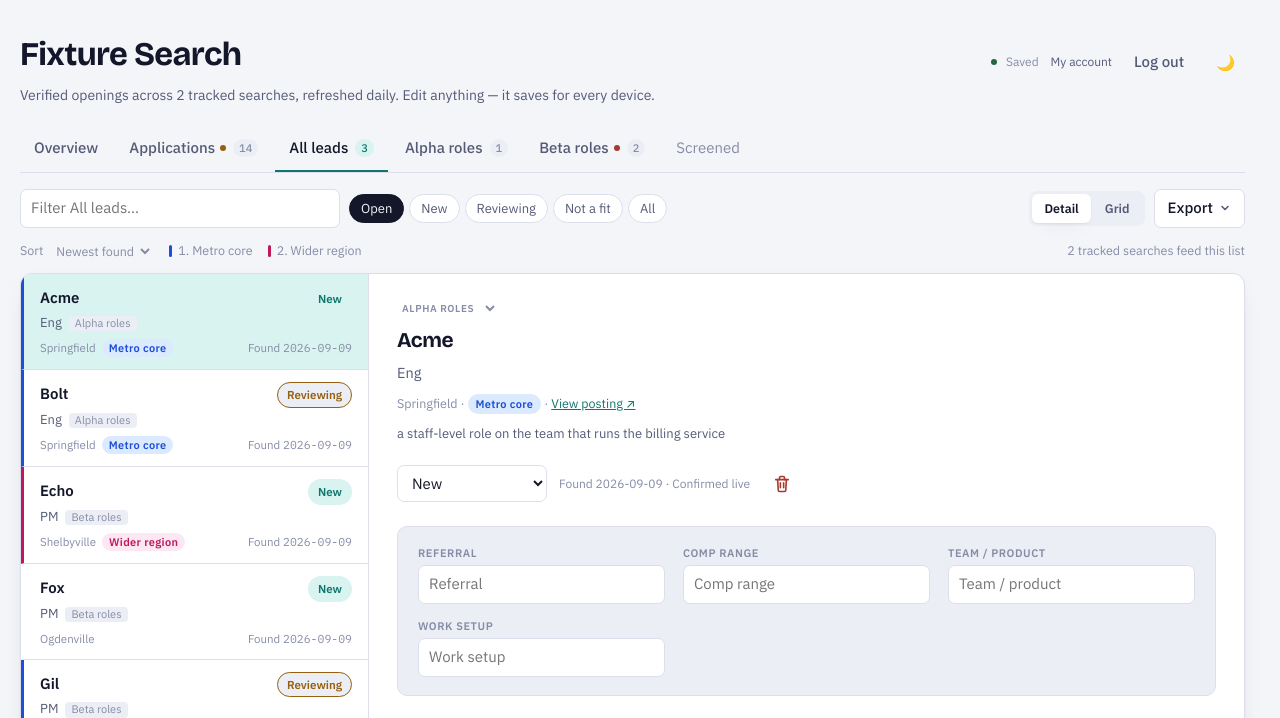
Test: removing a posting › puts the row back when the server kept it
expect the heading "Fixture Search" is shown: met, box [20, 34, 241, 74]
Click the button named "Remove Acme". click: {"x": 782, "y": 484}
box: [762, 464, 802, 504]
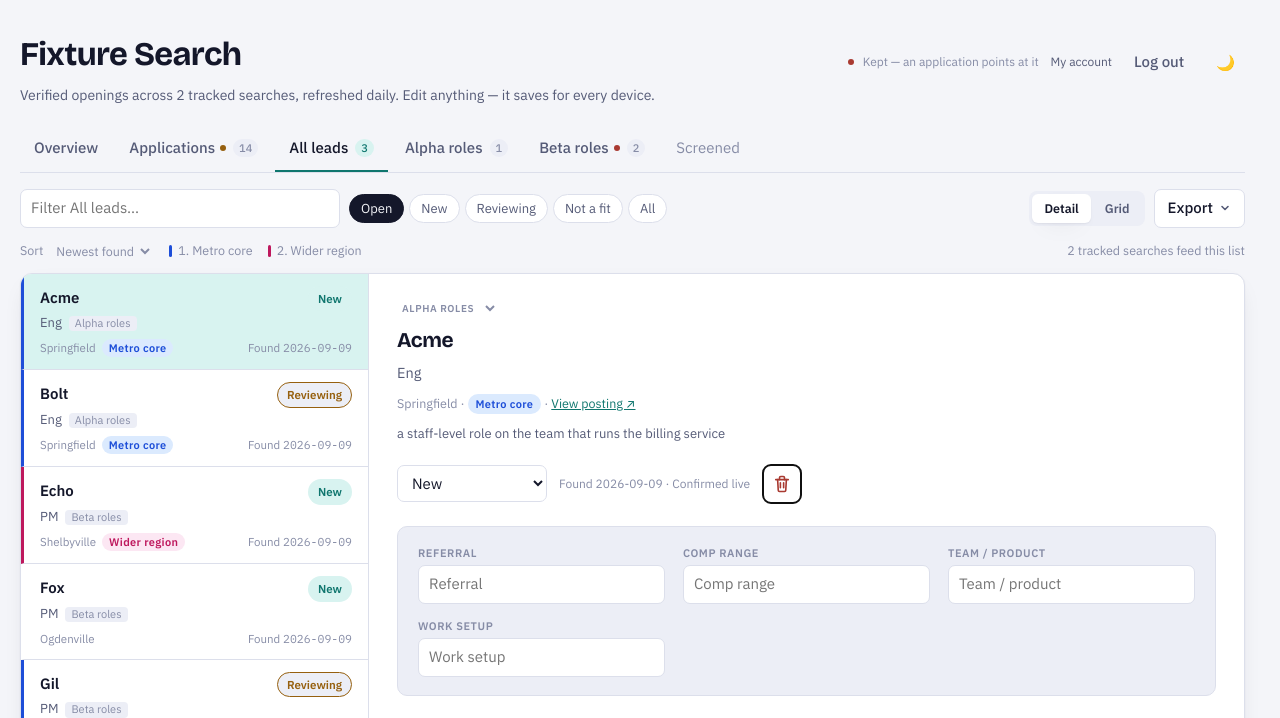
expect the message shows "an application points at it": met, box [863, 54, 1039, 69]
